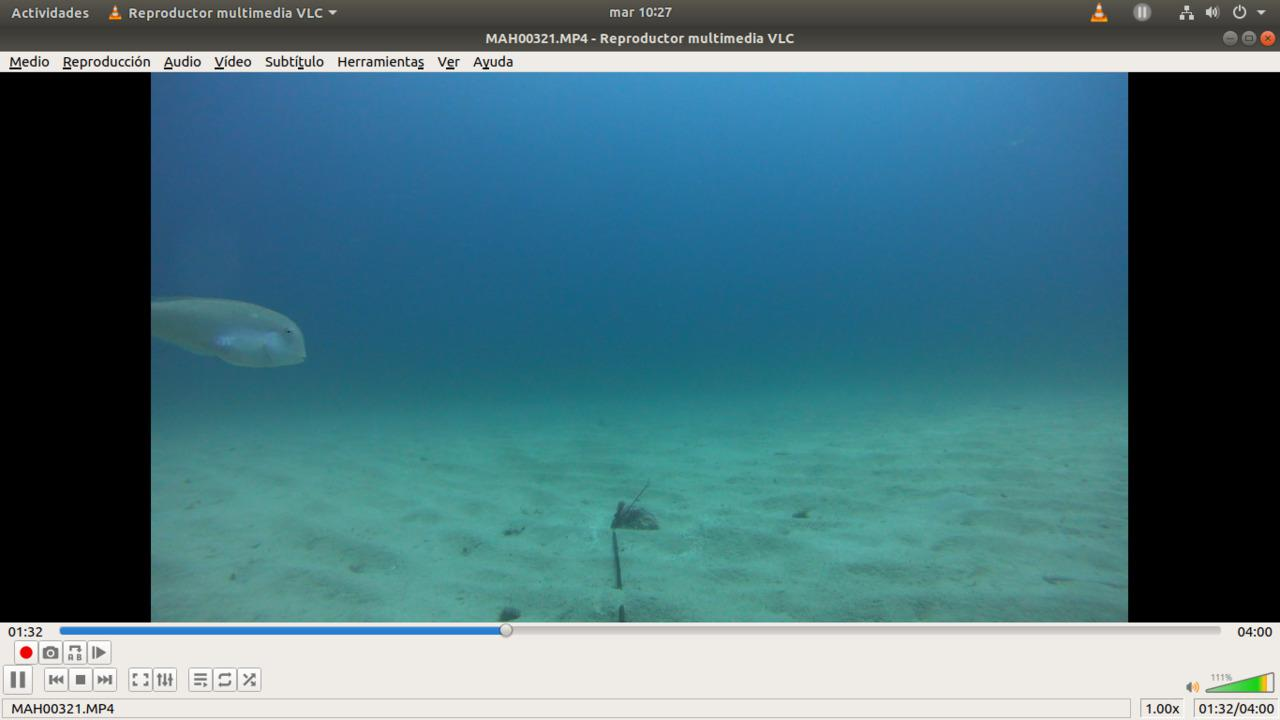raor: (150, 293, 313, 372)
